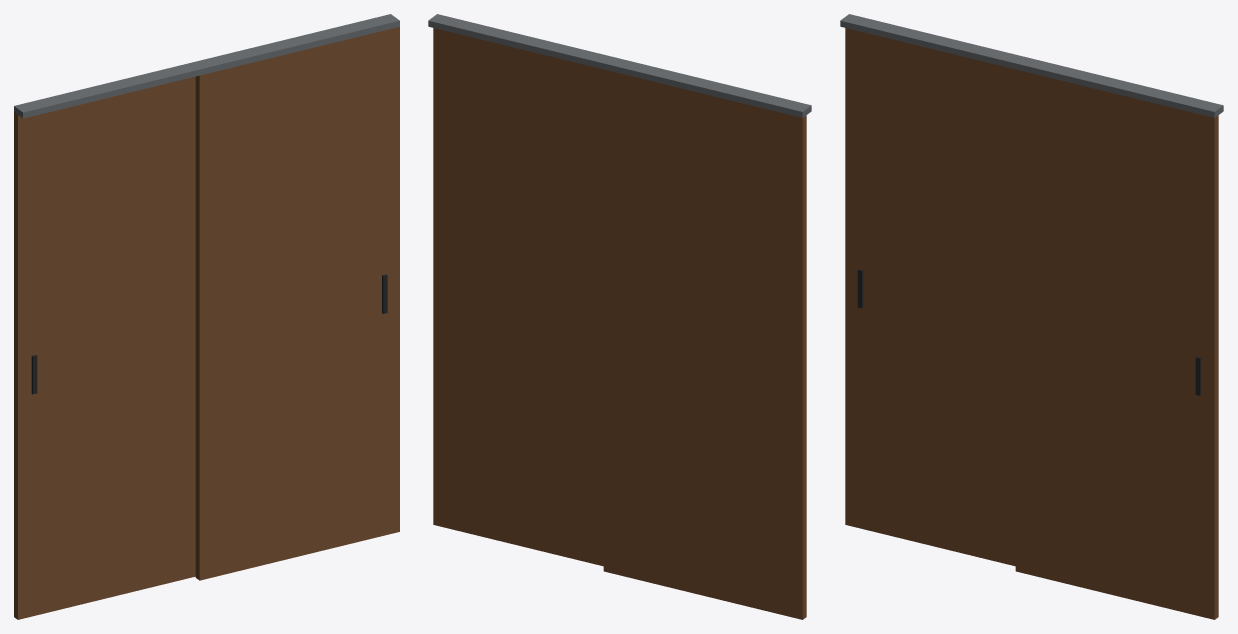
The model's file is door-coat-closet.glb.
3 renders of one model, left to right at view 1: azimuth 30°, elevation 25°; view 2: azimuth 150°, elevation 25°; view 3: azimuth 330°, elevation 25°, orthographic.
Parts seen in each view (by area): view 1: door-coat-closet-part-1, door-coat-closet; view 2: door-coat-closet, door-coat-closet-part-1; view 3: door-coat-closet-part-1, door-coat-closet.
Part boxes in pixels (left/top/right/bottom): door-coat-closet-part-1: left=195, top=27, right=399, bottom=580; door-coat-closet: left=14, top=14, right=399, bottom=619; door-coat-closet: left=428, top=14, right=811, bottom=619; door-coat-closet-part-1: left=433, top=28, right=603, bottom=566; door-coat-closet-part-1: left=1015, top=69, right=1218, bottom=619; door-coat-closet: left=840, top=14, right=1223, bottom=566.
Size of the model in its own units: 5.22 by 6.76 by 0.2488.
